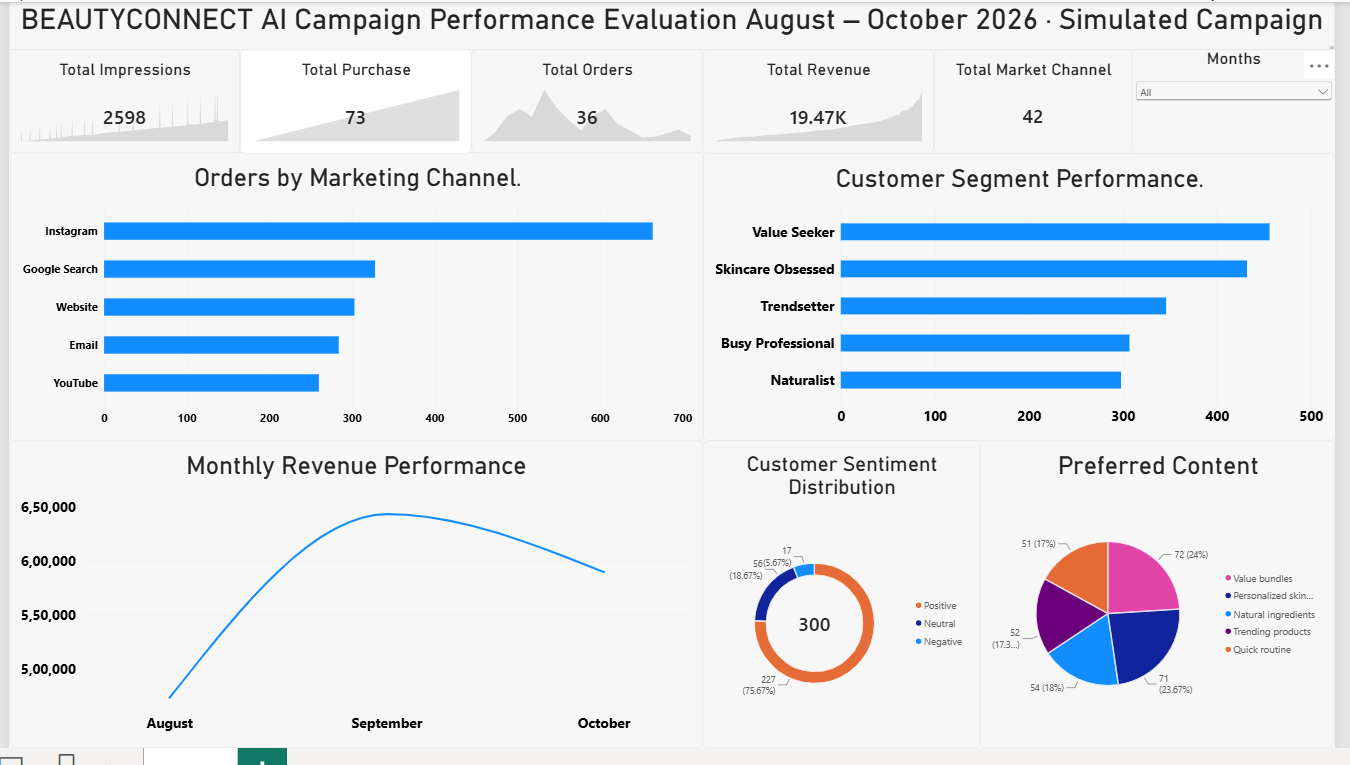

This screenshot's page, from the dashboard's own definition file:
{"tool":"powerbi","page":{"name":"Page 1","canvas":[1920,1080],"ordinal":0},"visuals":[{"type":"textbox","title":"BEAUTYCONNECT AI Campaign Performance Evaluation August – October 2026 · Simulated Campaign","box":[0,0,1920.1,68.8],"z":0},{"type":"kpi","title":"Total Impressions","fields":{"Indicator":["Sum(Campaign_Data.Impressions)"],"TrendLine":["Campaign_Data.Impressions"]},"box":[0,68.8,334.8,150.2],"z":1000},{"type":"kpi","title":"Total Orders","fields":{"Indicator":["Sum(Campaign_Data.Orders)"],"TrendLine":["Campaign_Data.Orders"]},"box":[669.6,68.8,334.8,150.2],"z":3000},{"type":"lineChart","title":"Monthly Revenue Performance","fields":{"Category":["Campaign_Data.Month.Variation.Date Hierarchy.Month"],"Y":["Sum(Campaign_Data.Revenue_INR)"]},"box":[0,635.2,1004.4,445.2],"z":4000},{"type":"clusteredBarChart","title":"Orders by Marketing Channel.","fields":{"Category":["Campaign_Data.Marketing_Channel"],"Y":["Sum(Campaign_Data.Orders)"]},"box":[1.8,217.2,1004.4,418],"z":5000},{"type":"donutChart","title":"Customer Sentiment Distribution","fields":{"Category":["Campaign_Data.Customer_Sentiment"],"Y":["CountNonNull(Campaign_Data.Customer_ID)"]},"box":[1004.4,635.2,401.7,445.2],"z":6000},{"type":"clusteredBarChart","title":"Customer Segment Performance.","fields":{"Category":["Campaign_Data.Customer_Segment"],"Y":["Sum(Campaign_Data.Orders)"]},"box":[1004.4,219,915.7,416.2],"z":6001},{"type":"slicer","title":"Months","fields":{"Values":["Campaign_Data.Month"]},"box":[1626.9,67,293.2,150.2],"z":6003},{"type":"pieChart","title":"Preferred Content","fields":{"Category":["Campaign_Data.Preferred_Content"],"Y":["CountNonNull(Campaign_Data.Customer_ID)"]},"box":[1406.1,635.2,513.9,445.2],"z":6004},{"type":"kpi","title":"Total Revenue","fields":{"Indicator":["Sum(Campaign_Data.Revenue_INR)"],"TrendLine":["Campaign_Data.Revenue_INR"]},"box":[1004.4,68.8,334.8,150.2],"z":6005},{"type":"kpi","title":"Total Market Channel","fields":{"Indicator":["CountNonNull(Campaign_Data.Marketing_Channel)"],"TrendLine":["Campaign_Data.Marketing_Channel"]},"box":[1339.1,68.8,287,150],"z":6006},{"type":"kpi","title":"Total Purchase","fields":{"Indicator":["Sum(Campaign_Data.Repeat_Purchase)"],"TrendLine":["Campaign_Data.Repeat_Purchase"]},"box":[334.8,68.8,334.8,150.2],"z":6007}]}

Visuals, with their boxes in screenshot pixels (x1, y1, x2, y2), scaled from the page's 1920x1080 canvas onto the 1350x765 screenshot:
"BEAUTYCONNECT AI Campaign Performance Evaluation August – October 2026 · Simulated Campaign" textbox: 0, 0, 1349, 49
"Total Impressions" kpi: 0, 49, 235, 155
"Total Orders" kpi: 471, 49, 706, 155
"Monthly Revenue Performance" lineChart: 0, 450, 706, 764
"Orders by Marketing Channel." clusteredBarChart: 1, 154, 707, 450
"Customer Sentiment Distribution" donutChart: 706, 450, 989, 764
"Customer Segment Performance." clusteredBarChart: 706, 155, 1349, 450
"Months" slicer: 1144, 47, 1349, 154
"Preferred Content" pieChart: 989, 450, 1349, 764
"Total Revenue" kpi: 706, 49, 942, 155
"Total Market Channel" kpi: 942, 49, 1143, 155
"Total Purchase" kpi: 235, 49, 471, 155
